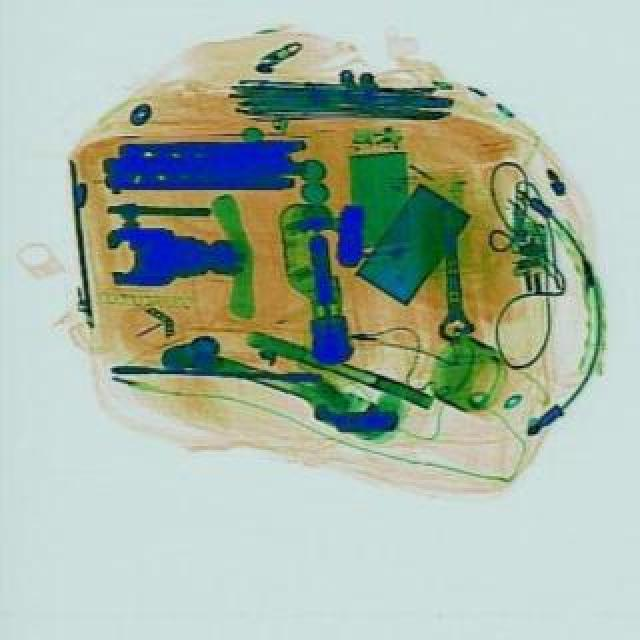scissors: (424, 204, 472, 348)
